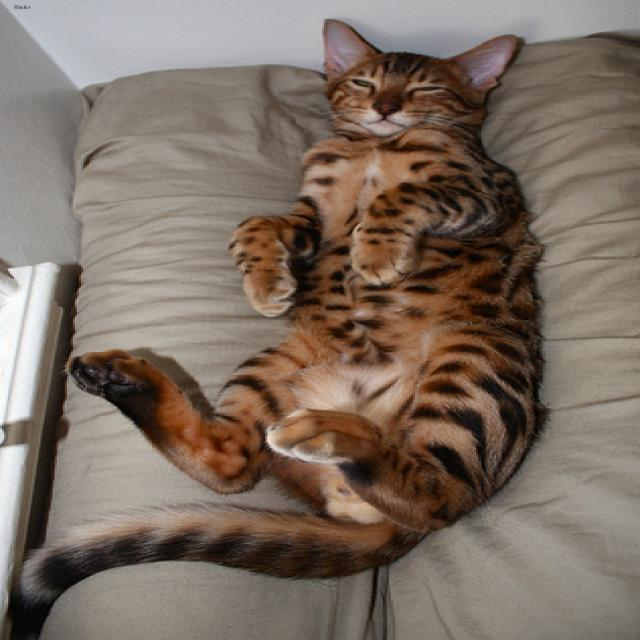Bengal: (308, 15, 530, 145)
